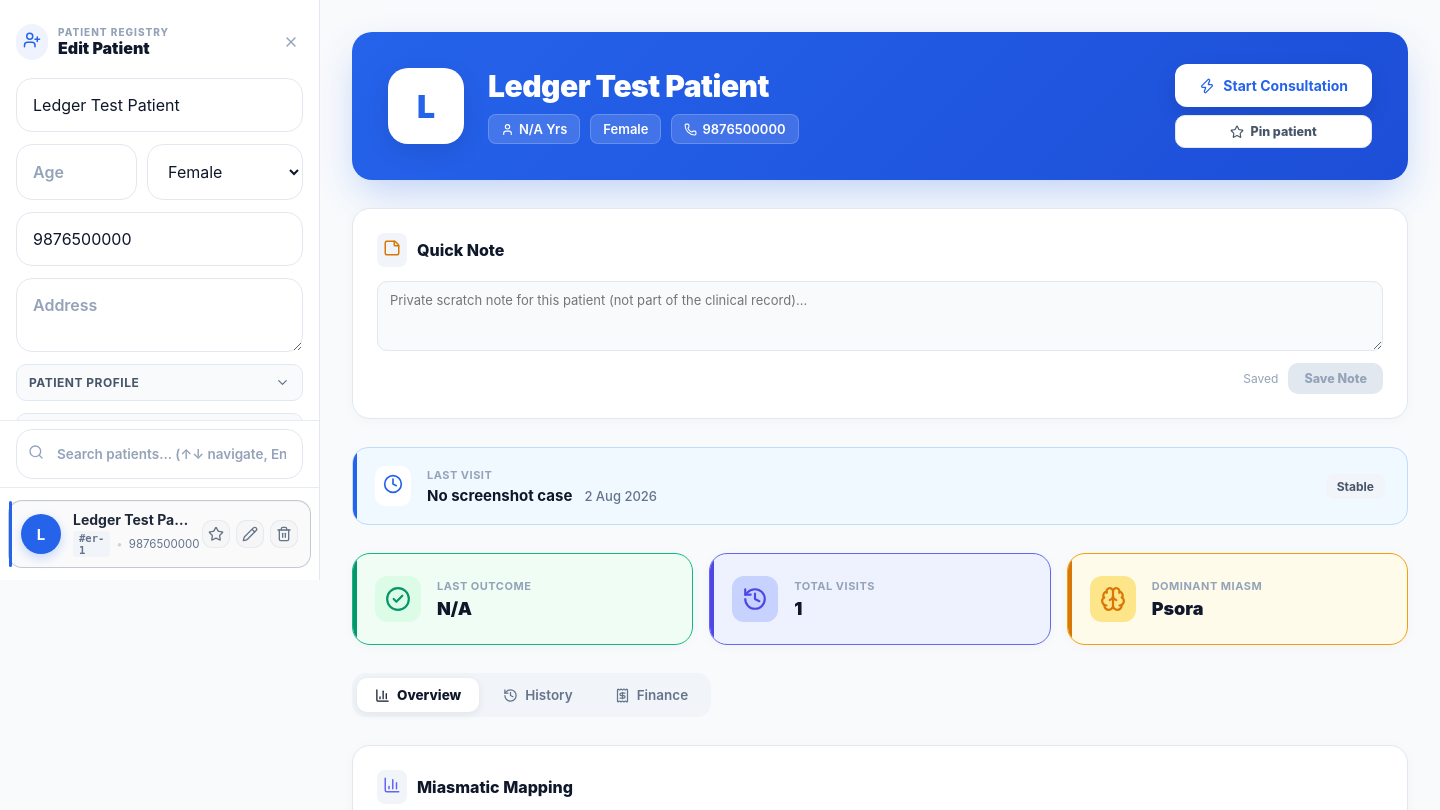
Test case: Patient Ledger — payment reference/notes/screenshot › shows an em dash instead of a View button when no screenshot was captured
Click the button "Finance": [651, 695] box [597,678,706,712]
(page scrolled)
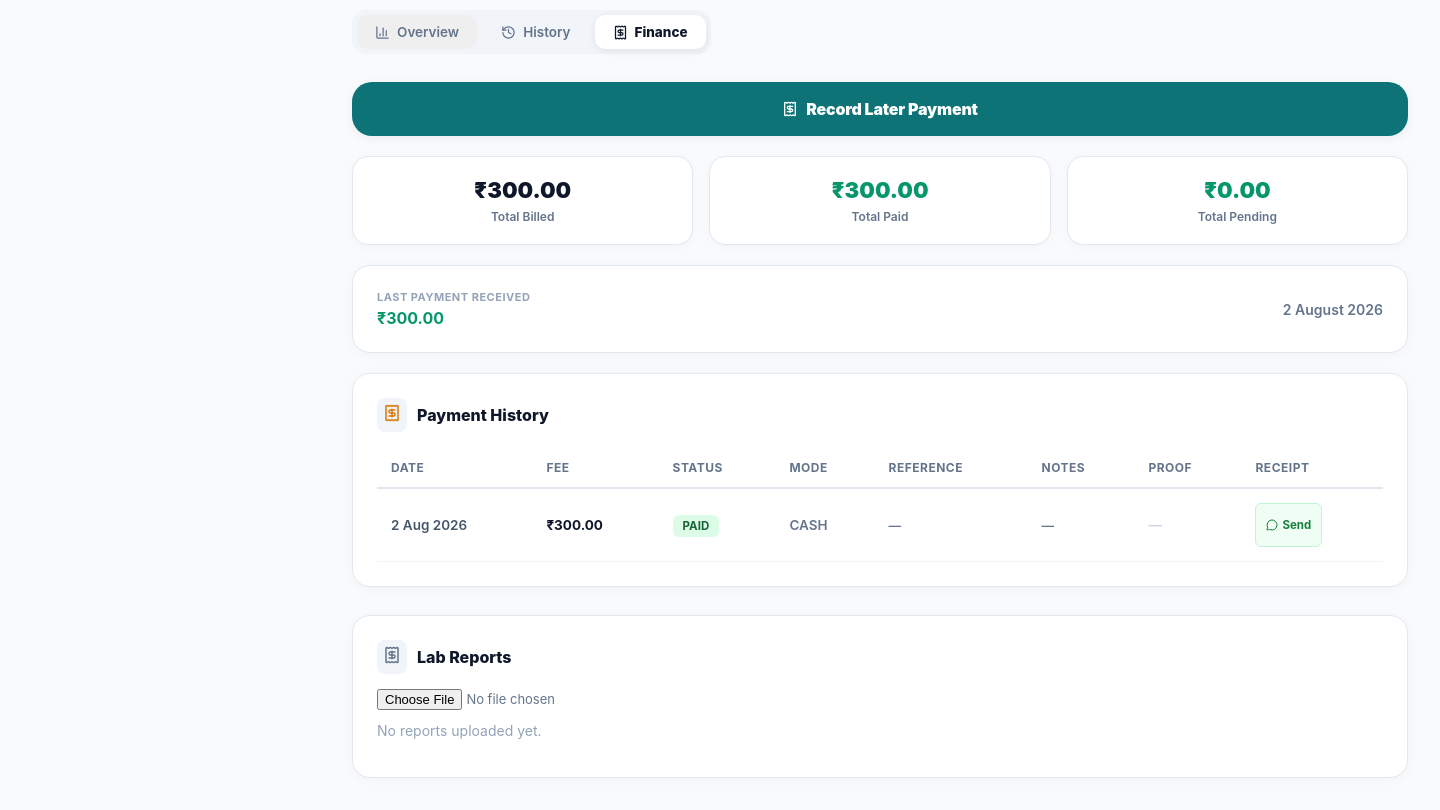
Expected: the heading "Payment History" is shown, [417,405,549,425]
